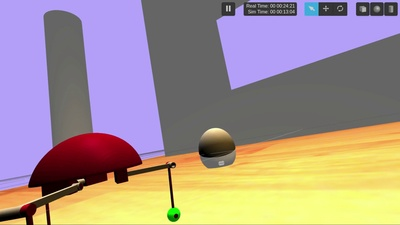mira_robot: (199, 128, 237, 169)
